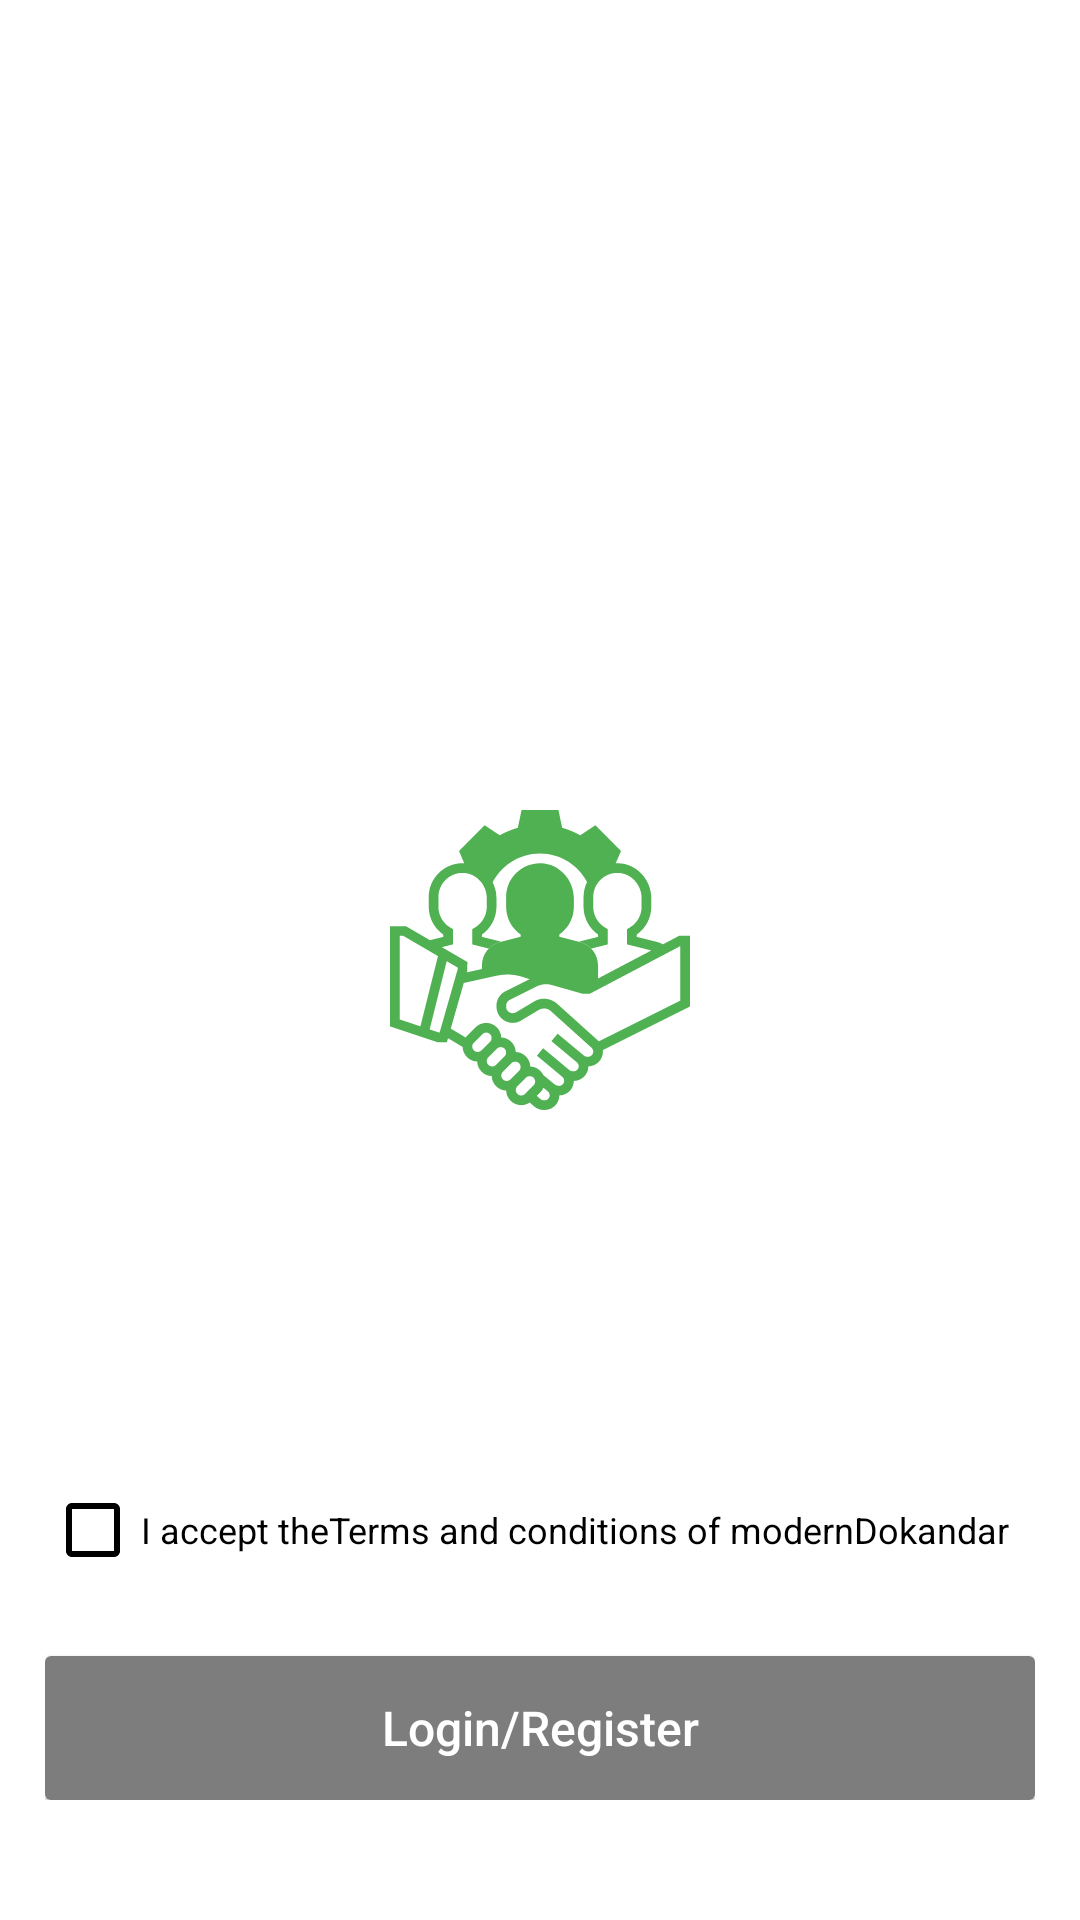

Named icons in this screenshot (1080×1920) and their bounding boxes, [x1,y1,x2,y2]:
team: [390,810,690,1110]
